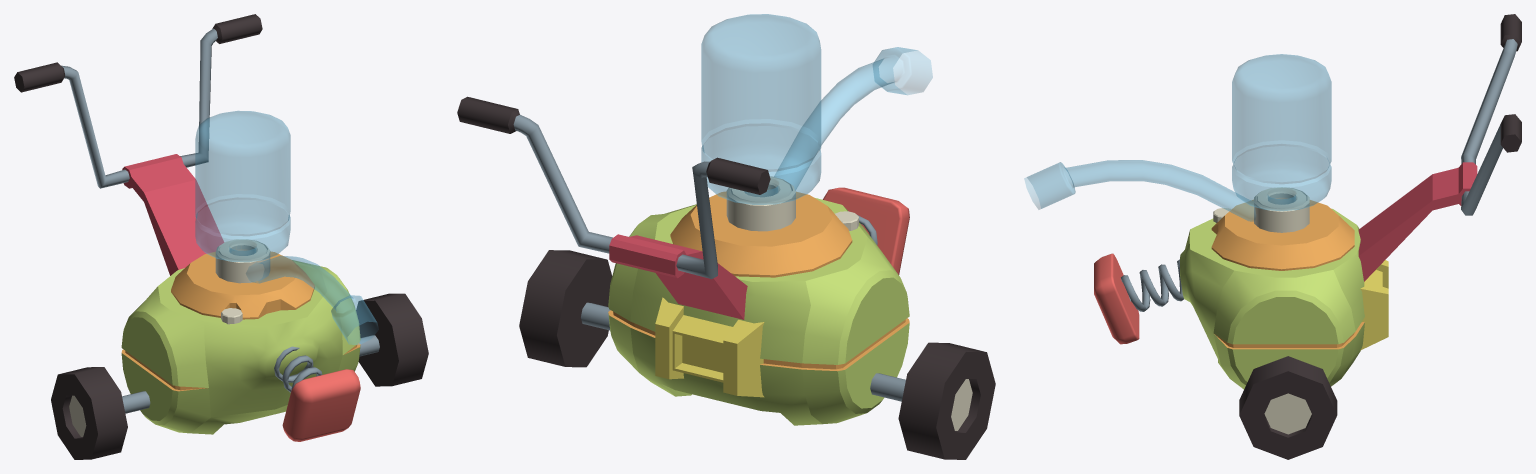
Rendered from acne_suction_machine.fbx.
3 views of the same model, side by side, from view 1: azimuth 30°, elevation 25°; view 2: azimuth 150°, elevation 25°; view 3: azimuth 270°, elevation 25° (orthographic). The views are drawn at different scales.
Visible parts, largest first — view 1: acne_suction_machine, extracted_03, extracted_01, extracted_02; view 2: acne_suction_machine, extracted_03, extracted_02, extracted_01; view 3: acne_suction_machine, extracted_03, extracted_02, extracted_01.
Boxes of the visible parts, <box> form: acne_suction_machine: <box>14,14,428,459</box>; extracted_03: <box>195,110,290,262</box>; extracted_01: <box>274,346,360,441</box>; extracted_02: <box>246,255,378,344</box>; acne_suction_machine: <box>457,96,995,459</box>; extracted_03: <box>701,14,821,204</box>; extracted_02: <box>774,47,932,190</box>; extracted_01: <box>823,187,909,274</box>; acne_suction_machine: <box>1180,14,1521,459</box>; extracted_03: <box>1232,54,1331,211</box>; extracted_02: <box>1024,160,1255,221</box>; extracted_01: <box>1094,253,1183,344</box>.
Size of the model in its own units: 2.96 by 2.52 by 3.72.
